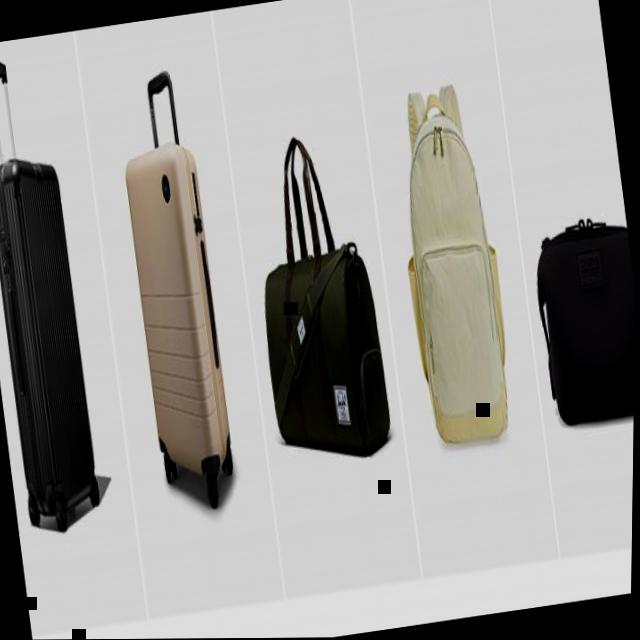luggage: (112, 121, 253, 521), (0, 146, 114, 551), (250, 230, 403, 473), (525, 202, 638, 429)
